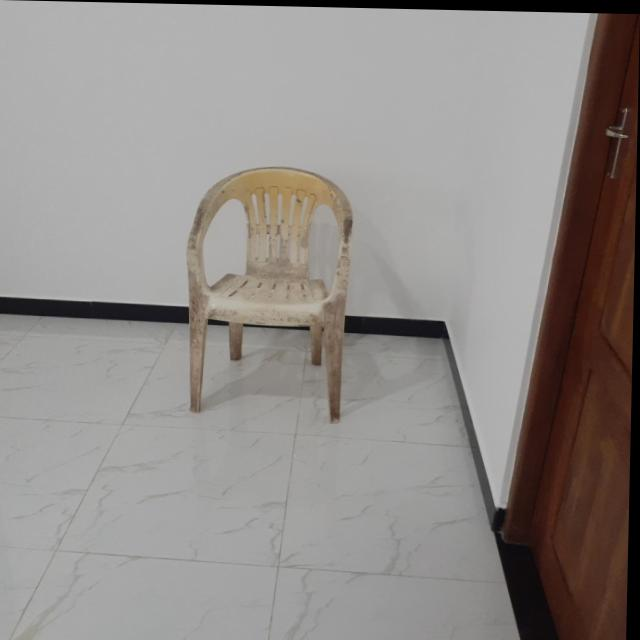Chair: (184, 161, 358, 423)
